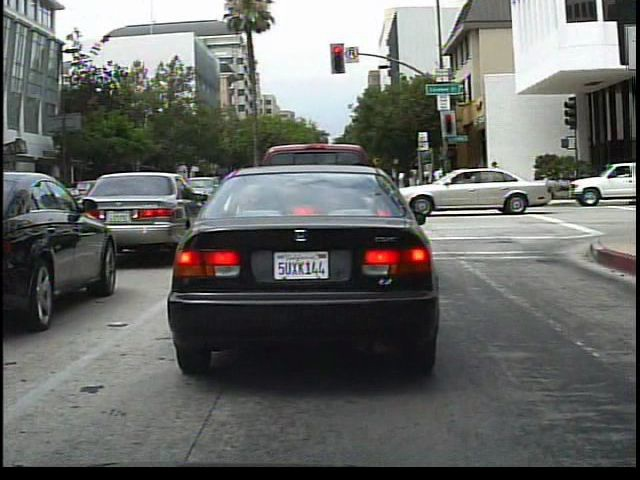person: (363, 161, 397, 216), (469, 158, 487, 199), (489, 157, 507, 198)
